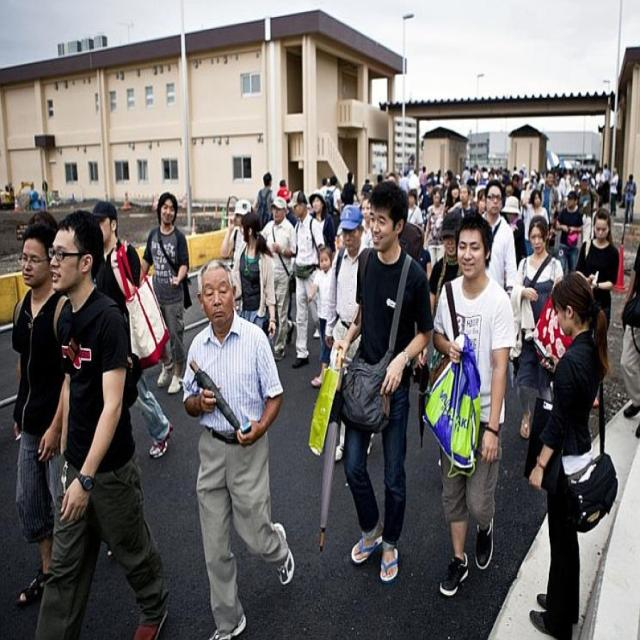body: (31, 207, 171, 639), (180, 258, 296, 639), (332, 179, 434, 583), (418, 209, 516, 600), (522, 267, 620, 639), (12, 220, 73, 608), (90, 199, 176, 462), (269, 162, 614, 210), (510, 213, 564, 440), (138, 189, 193, 398), (575, 206, 620, 407), (324, 204, 369, 371), (286, 188, 326, 370), (257, 194, 297, 362), (231, 210, 277, 341), (478, 180, 518, 298), (618, 244, 640, 441), (306, 243, 333, 389), (429, 209, 464, 319), (554, 190, 584, 271), (220, 198, 254, 266), (423, 187, 446, 270), (308, 192, 336, 254), (253, 170, 277, 232), (537, 170, 560, 234), (523, 188, 550, 242), (323, 174, 342, 236), (22, 206, 63, 234), (405, 188, 426, 230), (221, 190, 242, 232), (455, 182, 479, 218), (442, 180, 463, 218), (501, 195, 522, 232), (622, 172, 636, 226), (360, 194, 374, 248), (415, 245, 434, 284), (422, 177, 436, 226), (607, 166, 620, 218), (341, 172, 358, 206), (594, 166, 606, 208), (510, 172, 522, 208)
